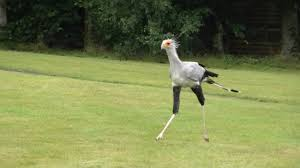Walking: (139, 24, 248, 155)
